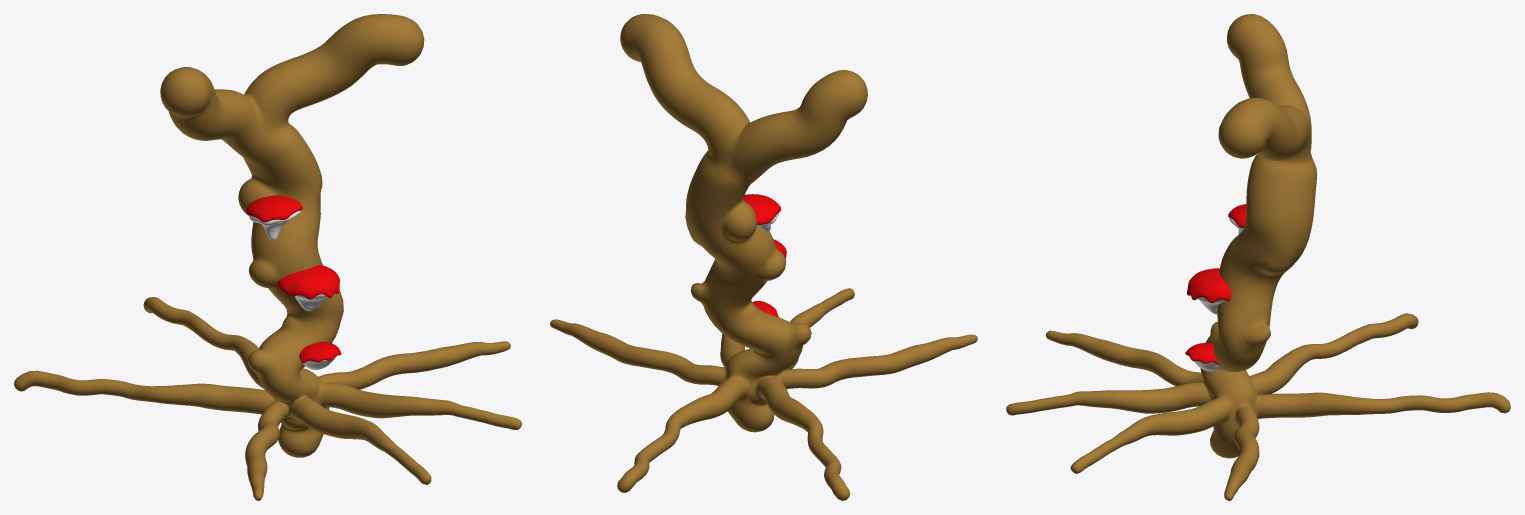
The model's file is hugetree.glb.
3 renders of one model, left to right at view 1: azimuth 30°, elevation 25°; view 2: azimuth 150°, elevation 25°; view 3: azimuth 270°, elevation 25°, orthographic. The views are drawn at different scales.
Visible parts, largest first — view 1: Retopo_Layer_1.001, Retopo_Layer_4.001, Retopo_Layer_5.001; view 2: Retopo_Layer_1.001, Retopo_Layer_4.001; view 3: Retopo_Layer_1.001, Retopo_Layer_4.001.
Boxes of the visible parts, x1=… form: Retopo_Layer_1.001: x1=14, y1=14, x2=521, y2=500; Retopo_Layer_4.001: x1=246, y1=195, x2=341, y2=362; Retopo_Layer_5.001: x1=249, y1=210, x2=336, y2=369; Retopo_Layer_1.001: x1=550, y1=14, x2=977, y2=500; Retopo_Layer_4.001: x1=743, y1=194, x2=786, y2=317; Retopo_Layer_1.001: x1=1006, y1=14, x2=1510, y2=500; Retopo_Layer_4.001: x1=1185, y1=204, x2=1246, y2=365.
Bounding box in the file's own units: 71.26 × 69.37 × 79.82.
